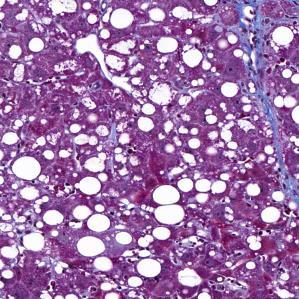fibrosis: (236, 4, 275, 92), (261, 108, 295, 191)
